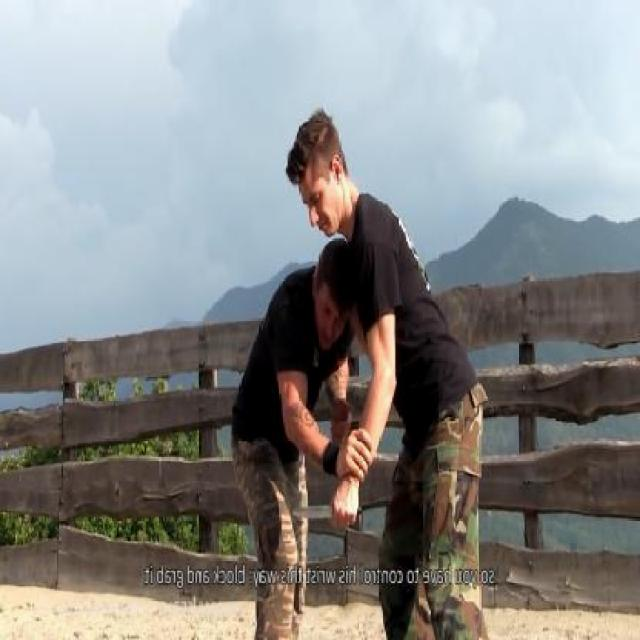knife: (288, 491, 364, 532)
